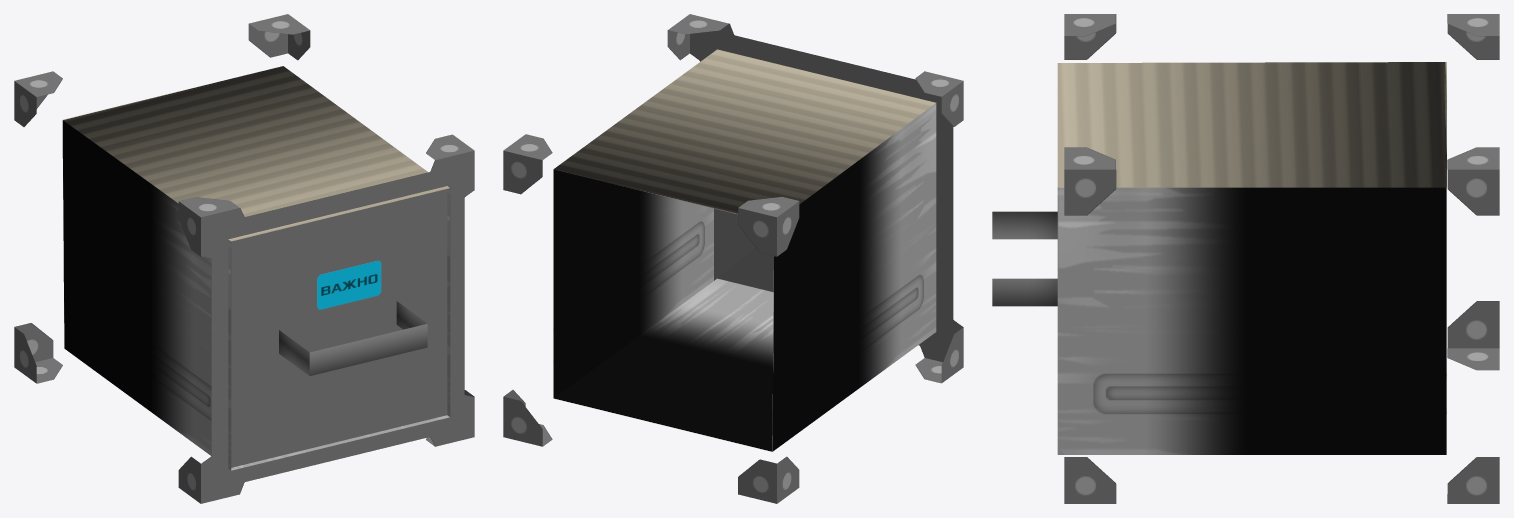
The model's file is obj_interactive_filecabinet_closed_lod1.fbx.
The picture shows the model from 3 angles, left to right: view 1: azimuth 30°, elevation 25°; view 2: azimuth 150°, elevation 25°; view 3: azimuth 270°, elevation 25°; orthographic projection. The views are drawn at different scales.
Visible parts, largest first — view 1: obj_interactive_filecabinet_open_lod2; view 2: obj_interactive_filecabinet_open_lod2; view 3: obj_interactive_filecabinet_open_lod2.
Boxes of the visible parts, <box> form: obj_interactive_filecabinet_open_lod2: <box>14,14,474,503</box>; obj_interactive_filecabinet_open_lod2: <box>503,14,963,503</box>; obj_interactive_filecabinet_open_lod2: <box>992,14,1499,503</box>.
Bounding box in the file's own units: 2 × 2 × 2.75.
Materials: 1 (1 with a texture image).
